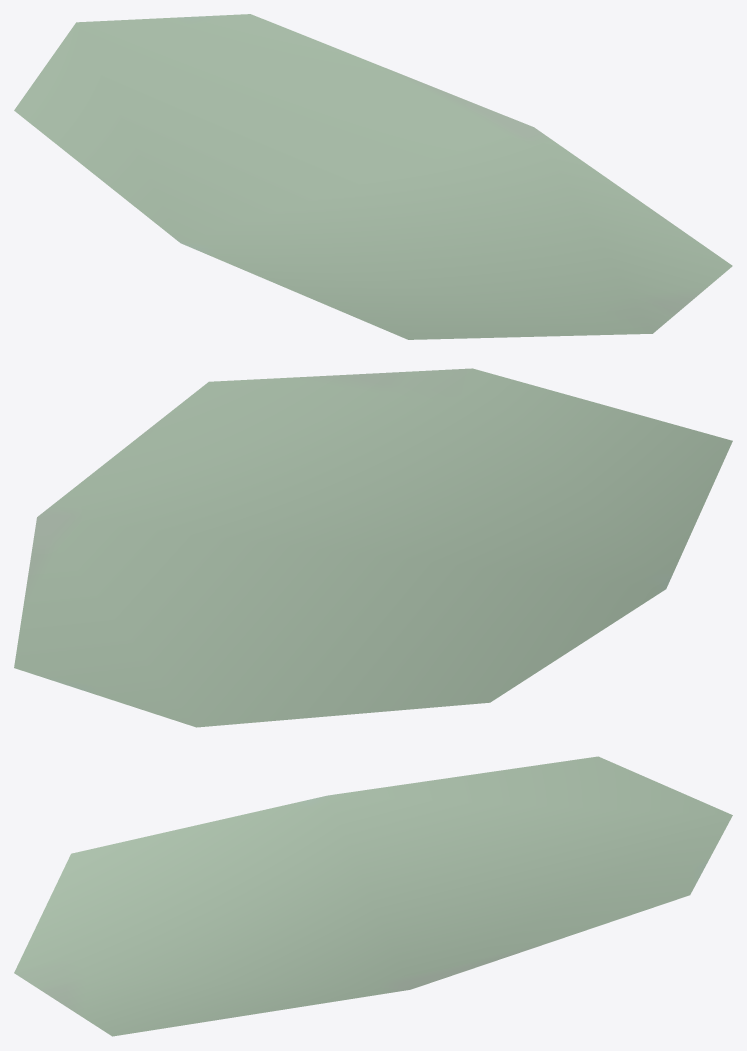
Rendered from TROLLHOLE02_HOLECAP76.fbx.
3 views of the same model, one above another, from view 1: azimuth 30°, elevation 25°; view 2: azimuth 150°, elevation 25°; view 3: azimuth 270°, elevation 25° (orthographic). The views are drawn at different scales.
Parts seen in each view (by area): view 1: TROLLHOLE02_HOLECAP76; view 2: TROLLHOLE02_HOLECAP76; view 3: TROLLHOLE02_HOLECAP76.
Part boxes in pixels (x1,y1,x2,y2): TROLLHOLE02_HOLECAP76: (14, 14, 732, 339); TROLLHOLE02_HOLECAP76: (14, 368, 732, 727); TROLLHOLE02_HOLECAP76: (14, 756, 732, 1036).
Size of the model in its own units: 16371 by 2702 by 23837.
Materials: 1 (1 with a texture image).
